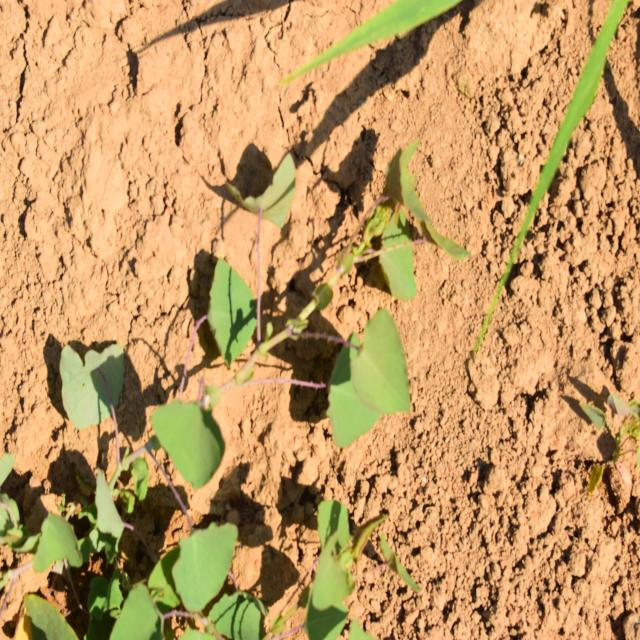Asiatic_Smartweed: (301, 124, 436, 447), (140, 381, 257, 614), (202, 158, 311, 374)
